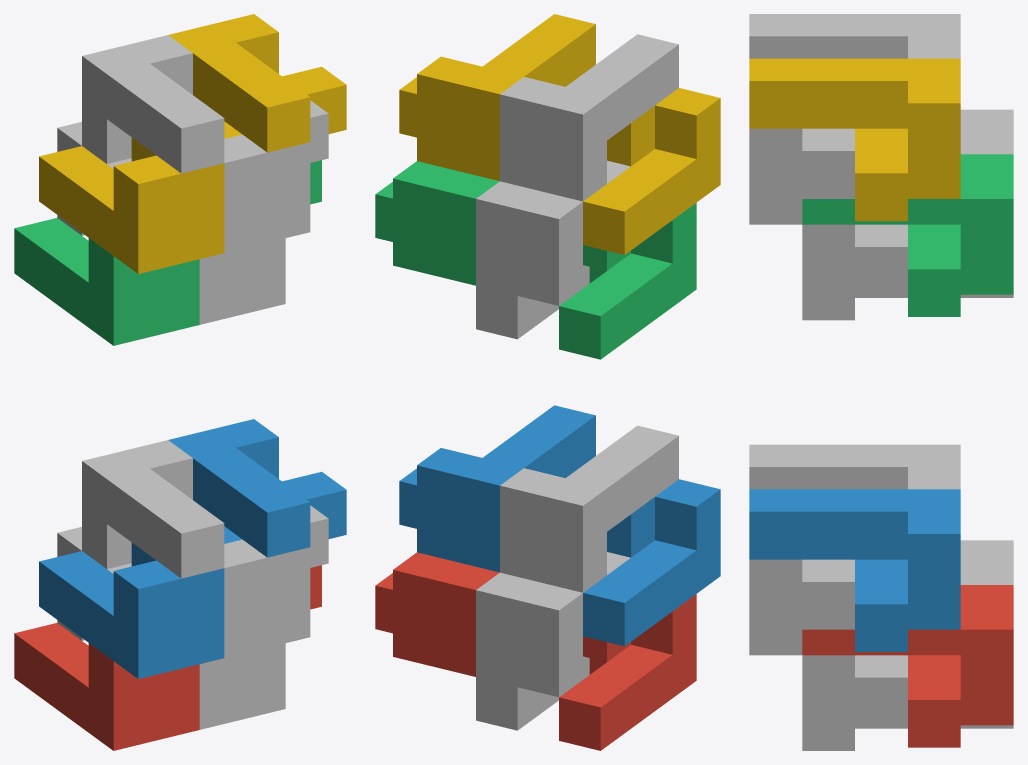
File: tiling.obj
3 views of the same model, side by side, from view 1: azimuth 30°, elevation 25°; view 2: azimuth 150°, elevation 25°; view 3: azimuth 270°, elevation 25° (orthographic). The views are drawn at different scales.
Parts seen in each view (by area): view 1: copy_1_domain_2, copy_1_domain_4, copy_2_domain_2, copy_2_domain_4, copy_1_domain_1, copy_1_domain_3, copy_2_domain_8, copy_2_domain_6, copy_1_domain_8, copy_1_domain_6, copy_1_domain_5, copy_1_domain_7 (+2 smaller); view 2: copy_2_domain_2, copy_2_domain_4, copy_2_domain_8, copy_2_domain_6, copy_1_domain_2, copy_1_domain_4, copy_1_domain_1, copy_1_domain_3, copy_2_domain_1, copy_2_domain_3, copy_2_domain_5, copy_2_domain_7 (+2 smaller); view 3: copy_2_domain_8, copy_2_domain_6, copy_2_domain_5, copy_2_domain_7, copy_2_domain_2, copy_2_domain_4, copy_1_domain_7, copy_1_domain_5, copy_1_domain_8, copy_1_domain_6, copy_2_domain_3, copy_2_domain_1.
Boxes of the visible parts, x1,y1,x2,y2 form: copy_1_domain_2: (39, 526, 242, 678); copy_1_domain_4: (39, 121, 242, 273); copy_2_domain_2: (82, 440, 224, 578); copy_2_domain_4: (82, 35, 224, 173); copy_1_domain_1: (14, 623, 199, 750); copy_1_domain_3: (14, 218, 199, 345); copy_2_domain_8: (168, 14, 346, 152); copy_2_domain_6: (168, 419, 346, 557); copy_1_domain_8: (224, 100, 328, 252); copy_1_domain_6: (224, 505, 328, 657); copy_1_domain_5: (199, 643, 285, 729); copy_1_domain_7: (199, 238, 285, 324); copy_2_domain_2: (500, 425, 678, 592); copy_2_domain_4: (500, 34, 678, 201); copy_2_domain_8: (399, 14, 595, 181); copy_2_domain_6: (399, 405, 595, 572); copy_1_domain_2: (583, 479, 720, 646); copy_1_domain_4: (583, 88, 720, 254); copy_1_domain_1: (559, 594, 696, 750); copy_1_domain_3: (559, 203, 696, 359); copy_2_domain_1: (476, 552, 630, 697); copy_2_domain_3: (476, 160, 630, 305); copy_2_domain_5: (375, 552, 499, 676); copy_2_domain_7: (375, 161, 499, 285); copy_2_domain_8: (749, 58, 960, 221); copy_2_domain_6: (749, 489, 960, 651); copy_2_domain_5: (802, 585, 1013, 747); copy_2_domain_7: (802, 154, 1013, 316); copy_2_domain_2: (749, 444, 960, 489); copy_2_domain_4: (749, 14, 960, 58); copy_1_domain_7: (802, 224, 1013, 320); copy_1_domain_5: (802, 655, 1013, 750); copy_1_domain_8: (749, 128, 854, 224); copy_1_domain_6: (749, 559, 854, 655); copy_2_domain_3: (960, 109, 1013, 154); copy_2_domain_1: (960, 540, 1013, 584).
Bounding box in the file's own units: 6 × 14 × 5.
